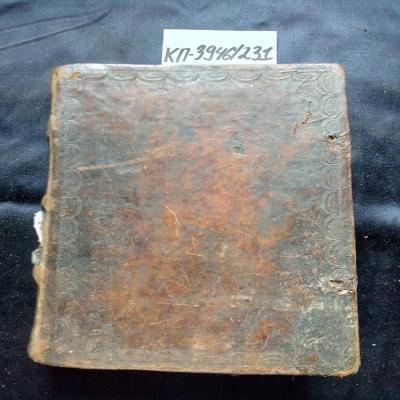rare_books: (26, 60, 360, 378)
